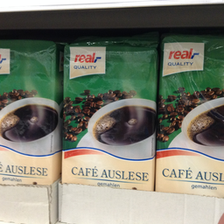coffee: (60, 43, 157, 190), (155, 34, 223, 198), (1, 38, 59, 185)
